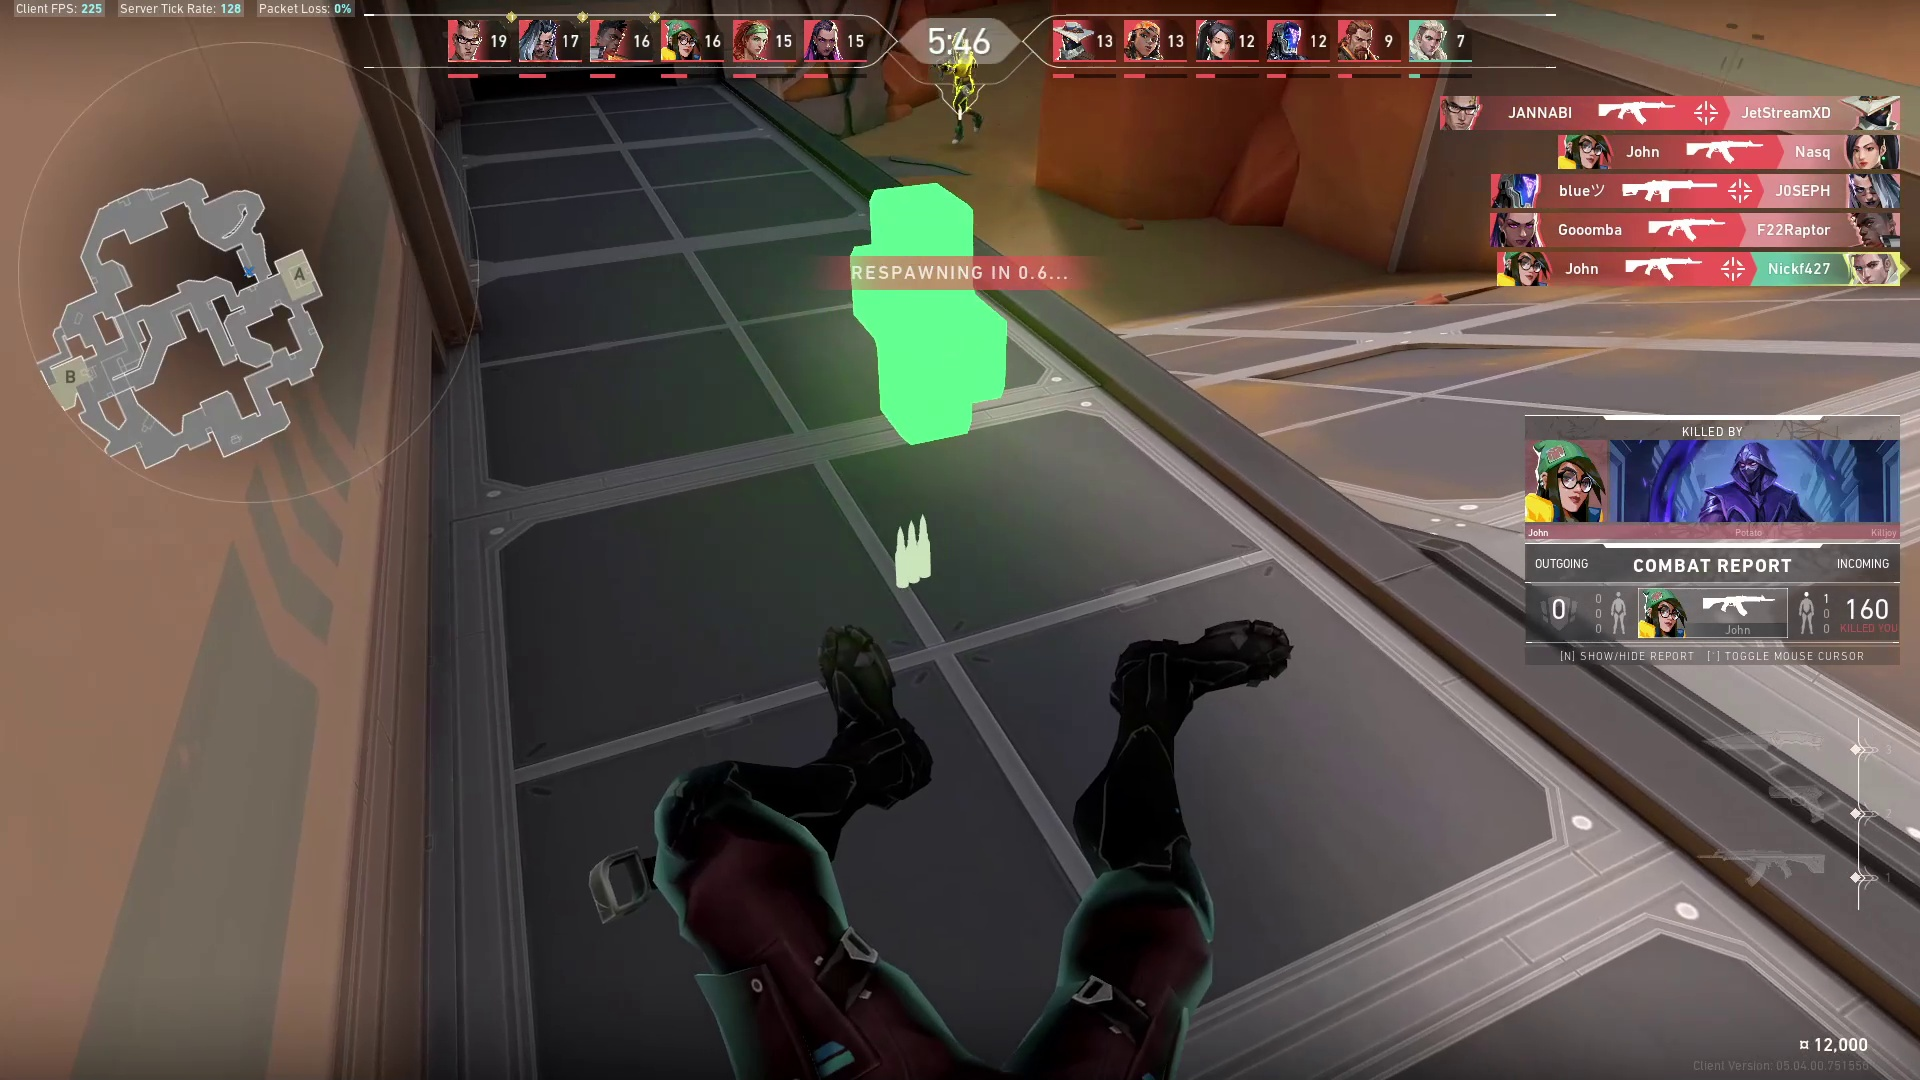enemy_gen: (932, 32, 986, 146)
